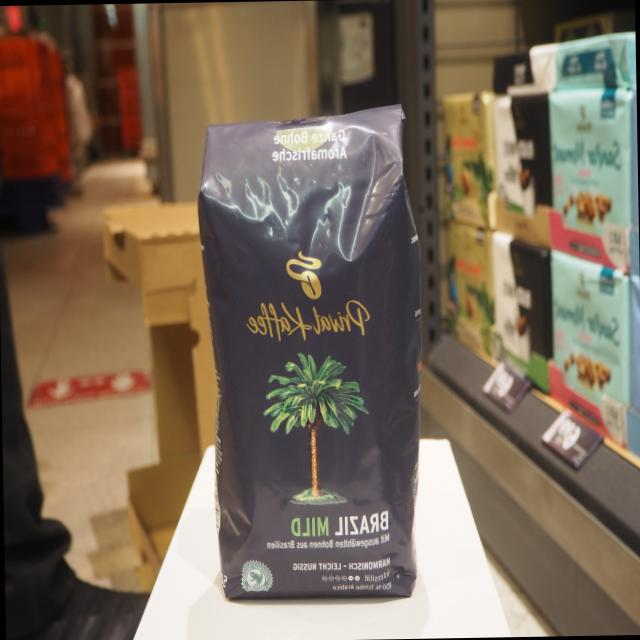BM Bohne: (191, 98, 435, 604)
